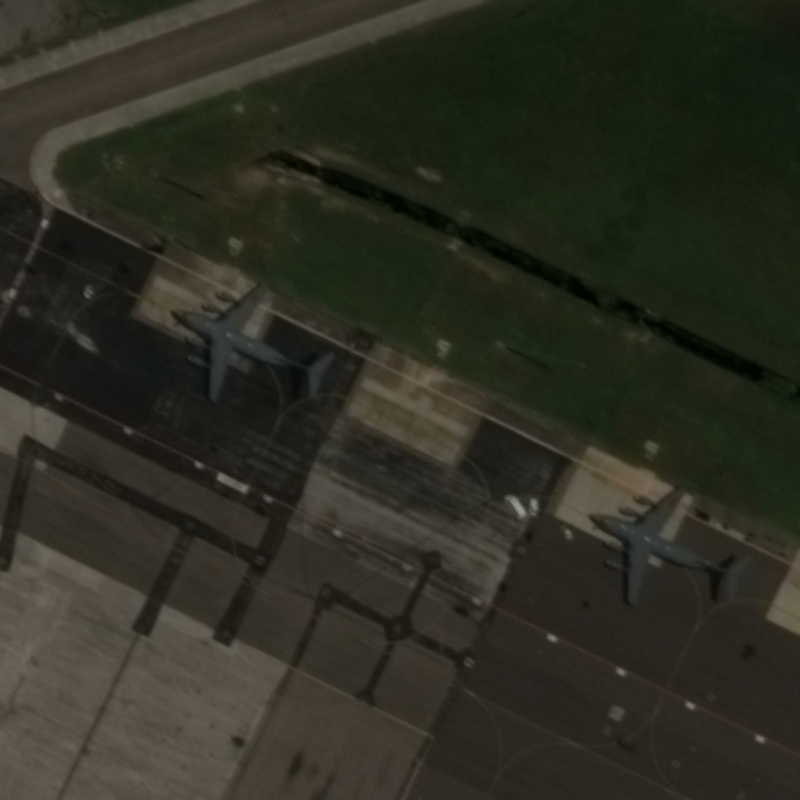A3: (584, 477, 758, 616), (158, 279, 340, 409)
